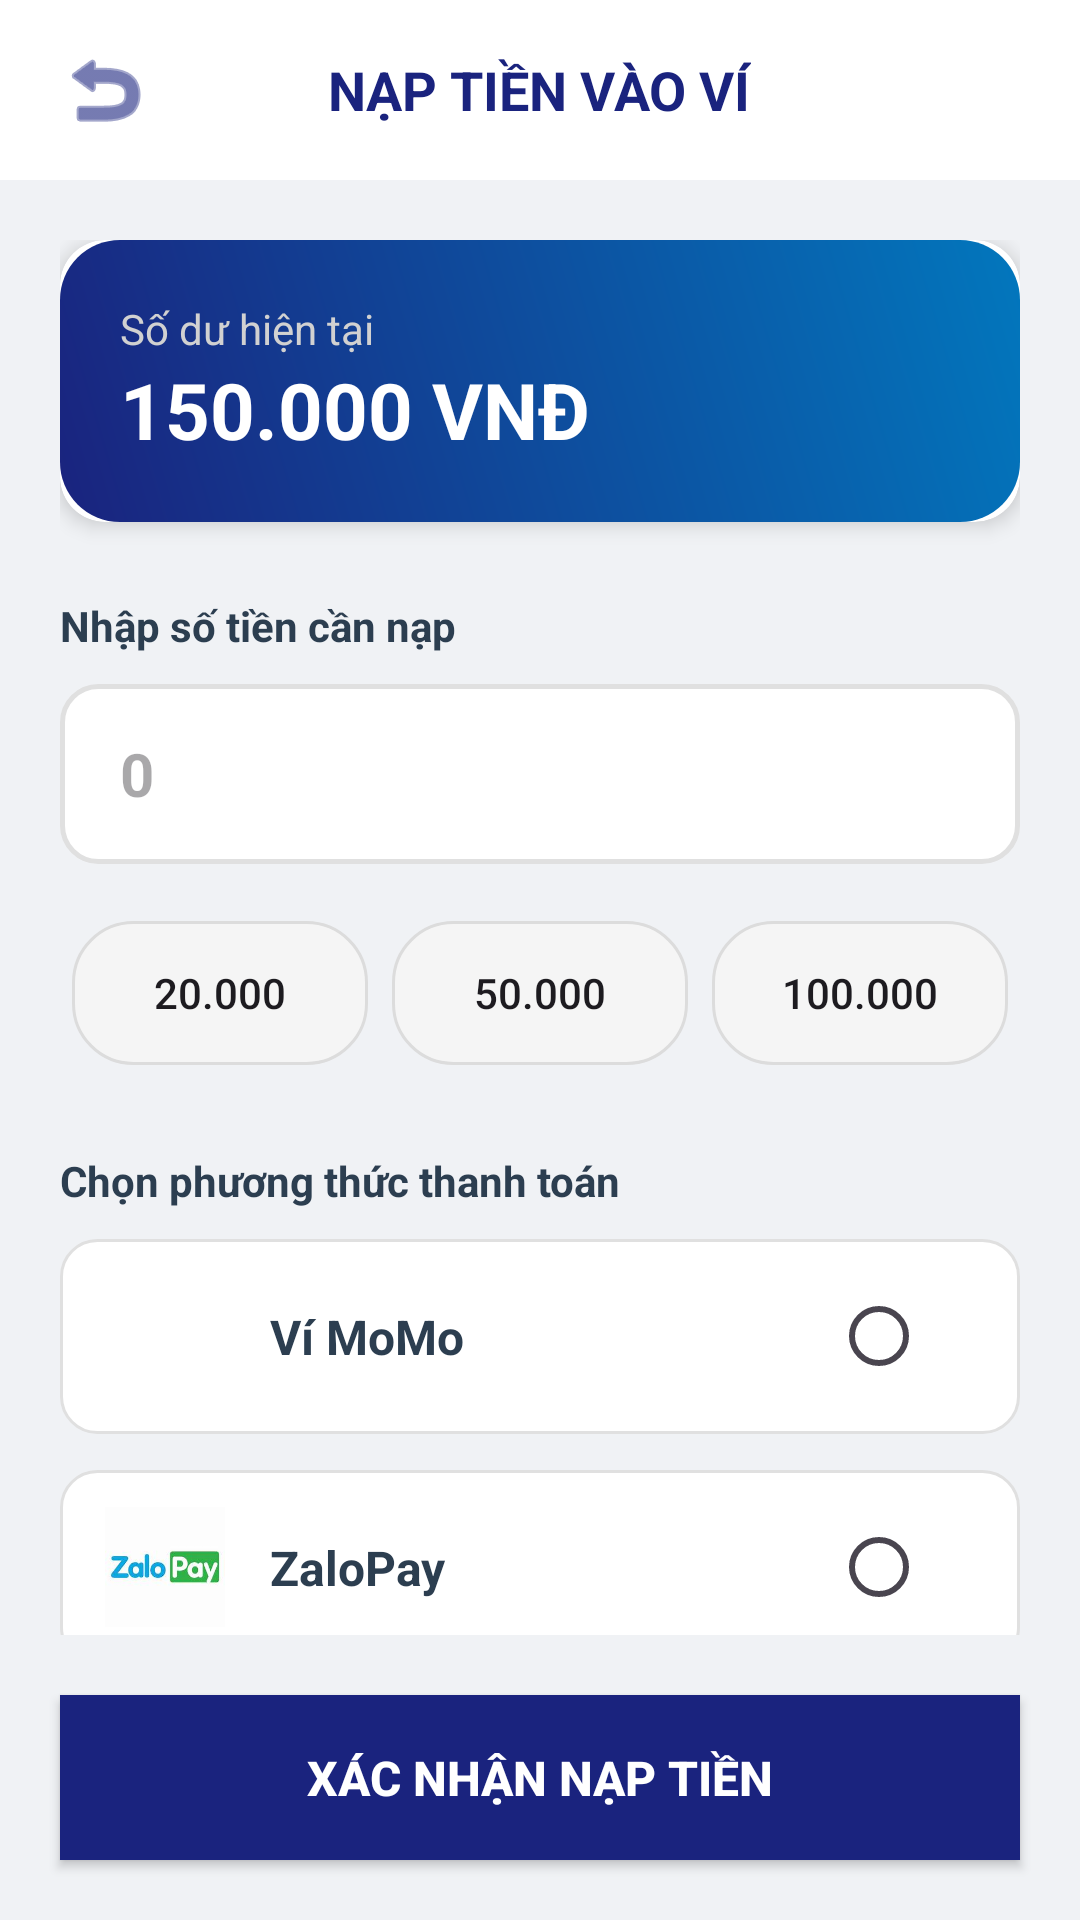

Icons on this 1080 x 1920 Android screen, each with its box as (x1, y1, x2, y2):
revert: (72, 59, 141, 122)
